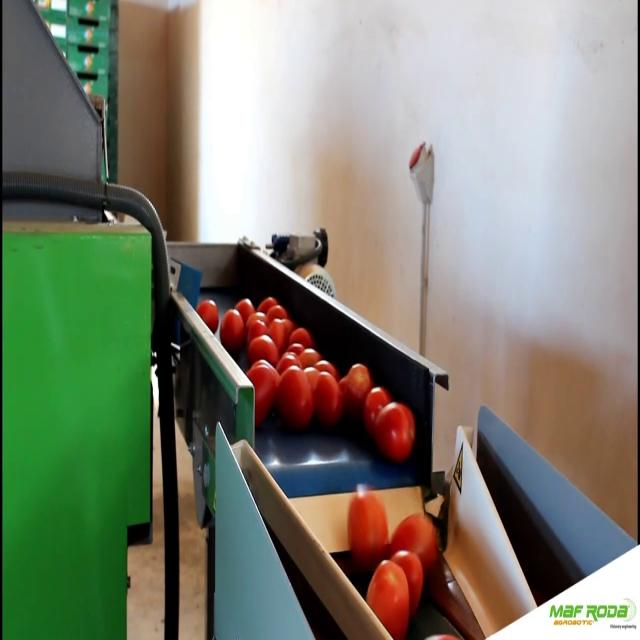Tomato: (366, 560, 409, 632), (344, 493, 389, 553), (374, 404, 412, 472), (391, 512, 436, 569), (248, 364, 276, 435), (276, 367, 310, 424), (313, 373, 342, 422), (396, 551, 423, 602), (344, 360, 371, 402), (222, 309, 246, 356), (246, 335, 279, 367), (190, 298, 218, 334), (366, 388, 386, 423), (299, 346, 321, 366), (234, 296, 253, 318), (293, 325, 312, 342), (280, 348, 296, 368), (260, 294, 279, 309), (269, 306, 287, 319), (318, 365, 339, 374)
